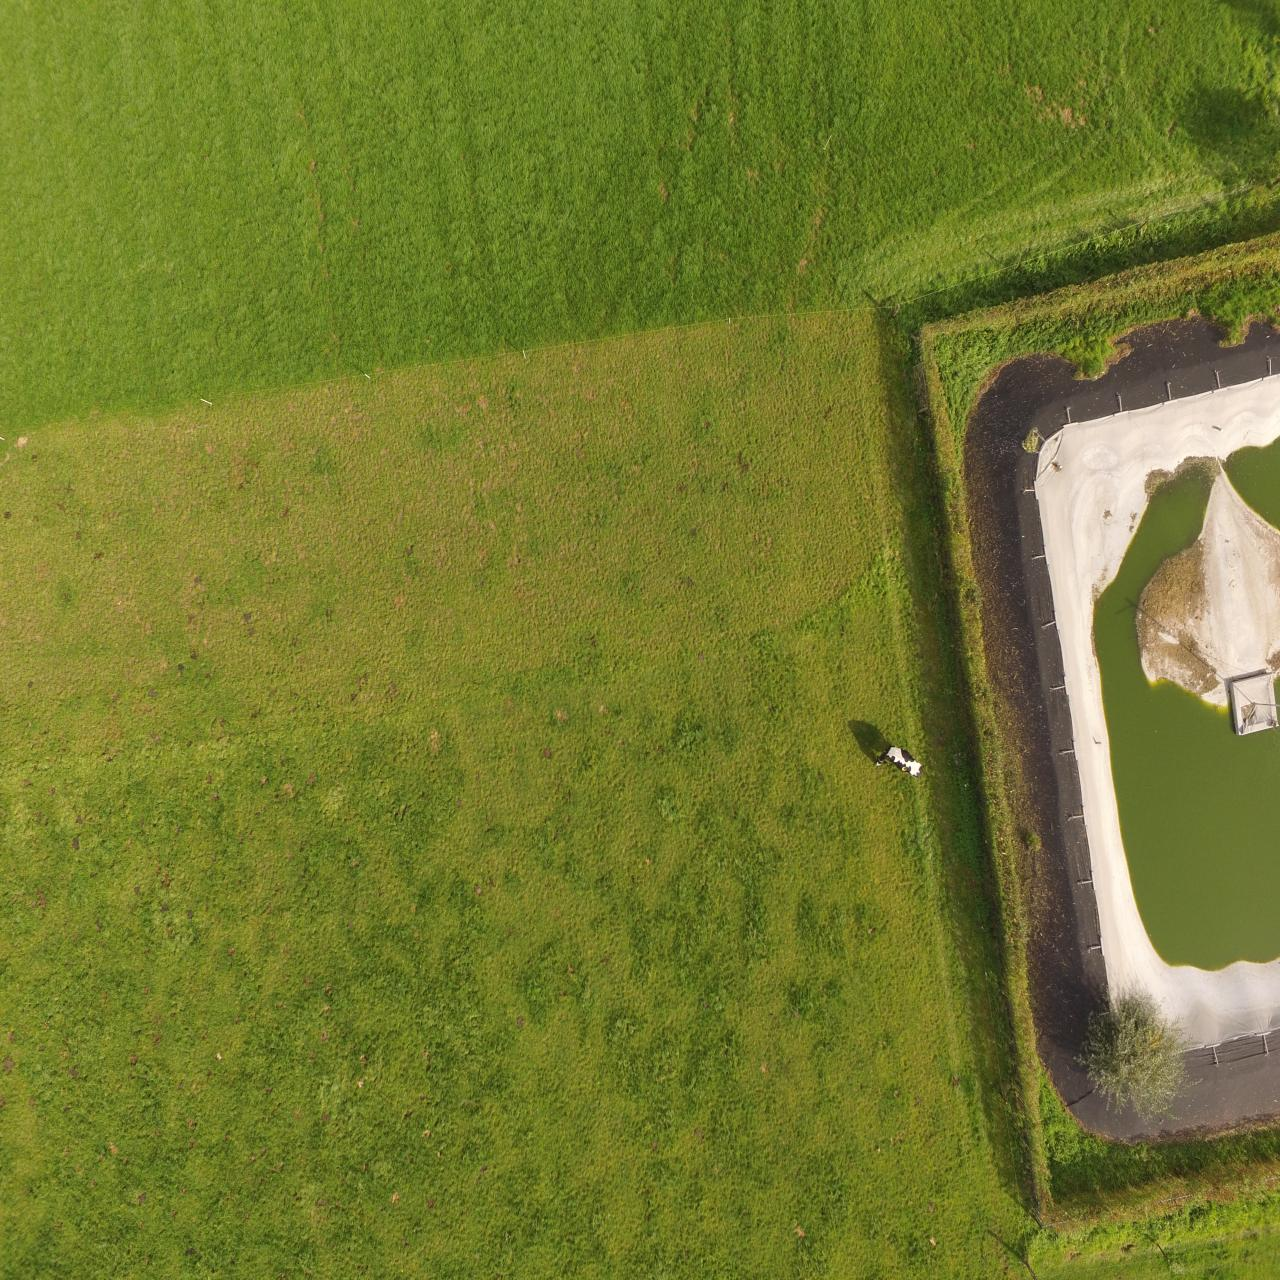cow: (873, 744, 922, 777)
